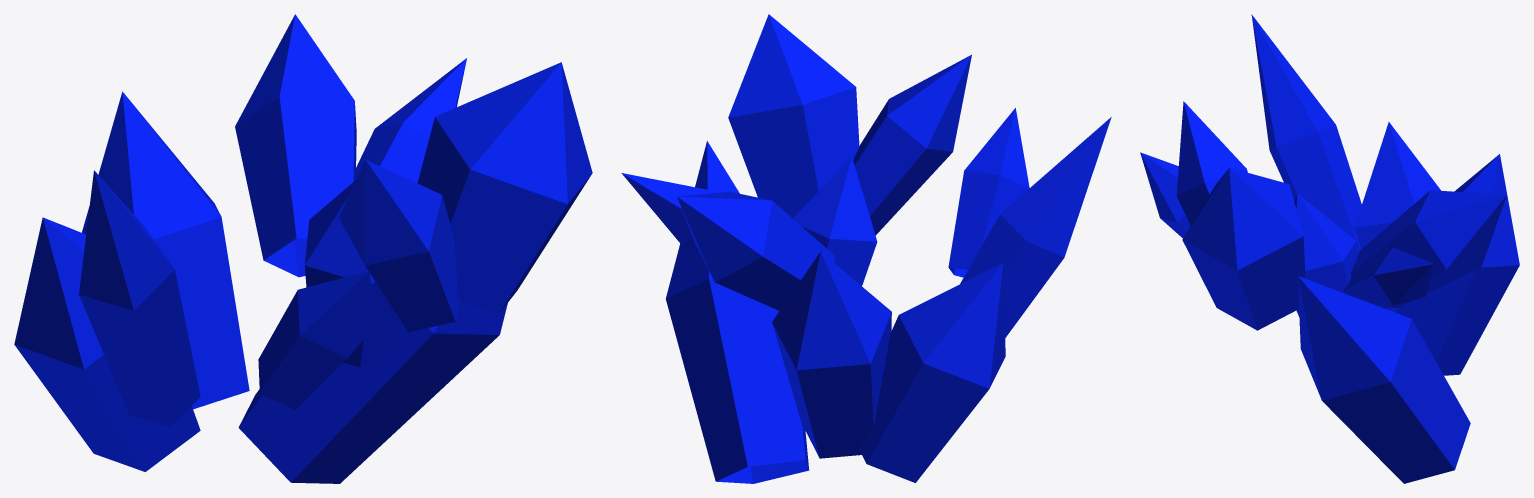
The model's file is assets_crystal-04.fbx.
3 views of the same model, side by side, from view 1: azimuth 30°, elevation 25°; view 2: azimuth 150°, elevation 25°; view 3: azimuth 270°, elevation 25° (orthographic). The views are drawn at different scales.
Visible parts, largest first — view 1: Cylinder076, Cylinder075, Cylinder070, Cylinder071, Cylinder073, Cylinder072, Cylinder067, Cylinder077, Cylinder068, Cylinder069; view 2: Cylinder075, Cylinder072, Cylinder076, Cylinder071, Cylinder070, Cylinder073, Cylinder067, Cylinder077, Cylinder068, Cylinder069; view 3: Cylinder075, Cylinder076, Cylinder073, Cylinder071, Cylinder070, Cylinder072, Cylinder067, Cylinder068, Cylinder069, Cylinder077.
Part boxes in pixels (left/top/right/bottom): Cylinder076: left=417, top=62, right=592, bottom=313; Cylinder075: left=238, top=300, right=507, bottom=483; Cylinder070: left=235, top=14, right=356, bottom=277; Cylinder071: left=82, top=91, right=249, bottom=409; Cylinder073: left=79, top=170, right=200, bottom=427; Cylinder072: left=14, top=217, right=200, bottom=471; Cylinder067: left=339, top=160, right=460, bottom=332; Cylinder077: left=258, top=271, right=374, bottom=409; Cylinder068: left=305, top=180, right=399, bottom=367; Cylinder069: left=354, top=58, right=466, bottom=183; Cylinder075: left=666, top=141, right=809, bottom=483; Cylinder072: left=858, top=262, right=1005, bottom=482; Cylinder076: left=728, top=14, right=859, bottom=218; Cylinder071: left=772, top=251, right=891, bottom=458; Cylinder070: left=677, top=191, right=835, bottom=310; Cylinder073: left=960, top=117, right=1111, bottom=337; Cylinder067: left=853, top=54, right=971, bottom=235; Cylinder077: left=948, top=108, right=1029, bottom=277; Cylinder068: left=793, top=157, right=877, bottom=285; Cylinder069: left=621, top=173, right=717, bottom=255; Cylinder075: left=1298, top=276, right=1470, bottom=483; Cylinder076: left=1182, top=167, right=1305, bottom=330; Cylinder073: left=1251, top=14, right=1361, bottom=253; Cylinder071: left=1396, top=154, right=1519, bottom=375; Cylinder070: left=1351, top=190, right=1506, bottom=308; Cylinder072: left=1354, top=122, right=1441, bottom=312; Cylinder067: left=1176, top=101, right=1247, bottom=225; Cylinder068: left=1294, top=193, right=1358, bottom=316; Cylinder069: left=1343, top=247, right=1433, bottom=308; Cylinder077: left=1140, top=152, right=1190, bottom=238.
Size of the model in its own units: 0.3507 by 0.326 by 0.3187.
